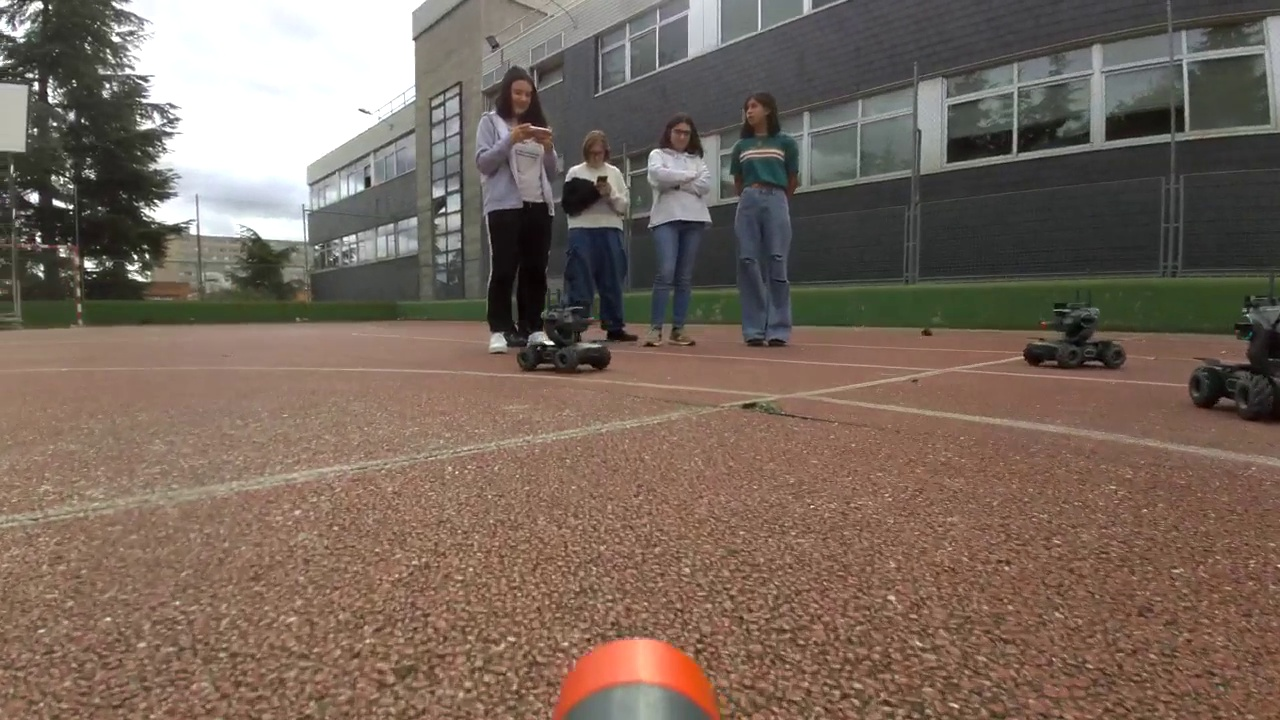robot: (1191, 296, 1280, 420), (1027, 302, 1128, 371), (517, 305, 611, 374)
